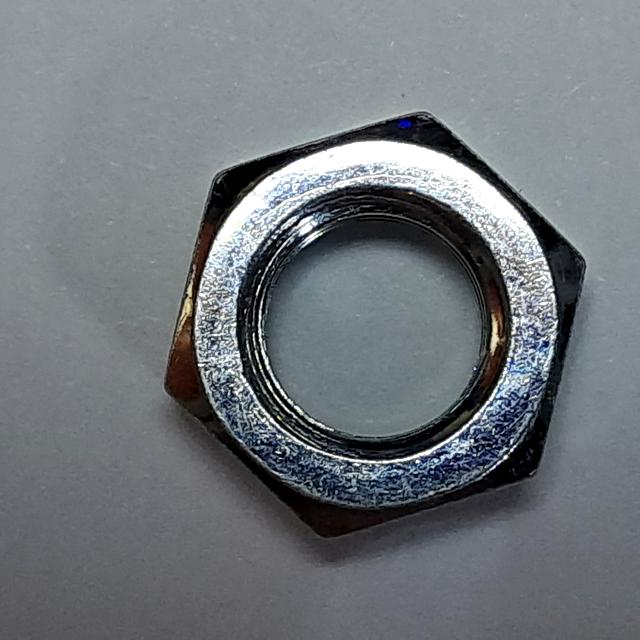Excellent: (154, 96, 608, 559)
